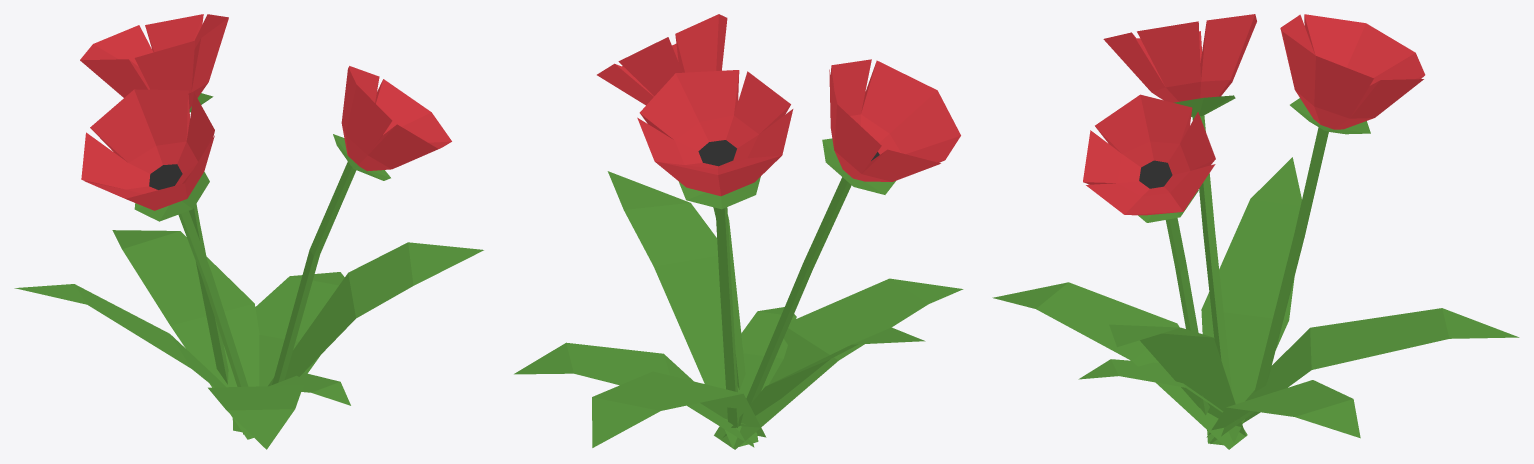
Rendered from carnations.glb.
3 views of the same model, side by side, from view 1: azimuth 30°, elevation 25°; view 2: azimuth 150°, elevation 25°; view 3: azimuth 270°, elevation 25° (orthographic). The views are drawn at different scales.
Visible parts, largest first — view 1: carnations; view 2: carnations; view 3: carnations.
Boxes of the visible parts, box(x1,y1,x2,y2) form: carnations: box(14, 14, 483, 449); carnations: box(514, 14, 963, 449); carnations: box(992, 14, 1519, 449).
Size of the model in its own units: 0.7997 by 0.749 by 0.9086.
Materials: 1 (1 with a texture image).
